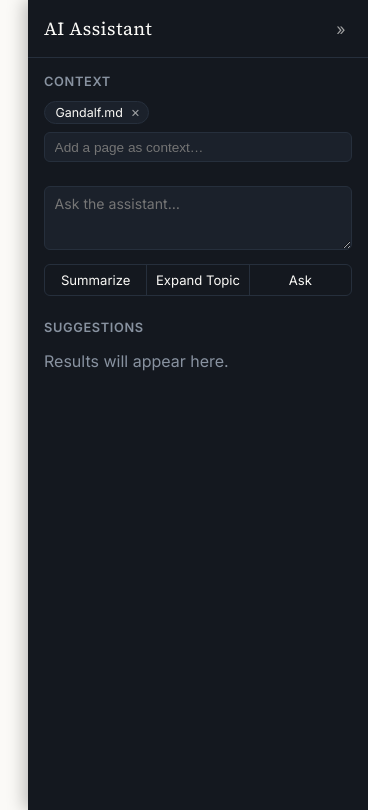
Test: AiAssistantPanel › Add to Page saves the appended content and notifies the parent
Check: the heading "Context" is shown, box [44, 74, 111, 89]
Step 1. Click the button "Summarize" → (96, 280), box [45, 265, 147, 295]
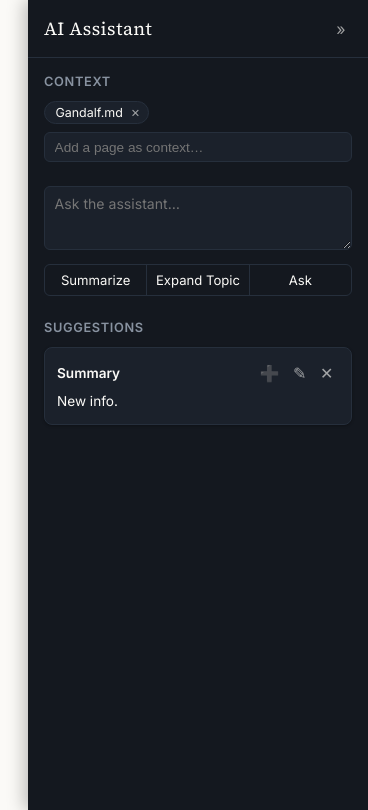
Check: the text "New info." is shown, box [57, 393, 118, 409]
Step 2. Click the button named "Add to Page" → (270, 372), box [254, 360, 285, 385]
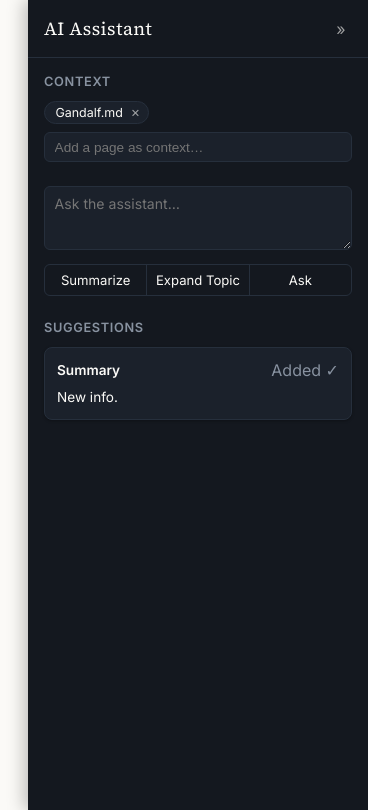
Check: the text "Added ✓" is shown, box [271, 360, 339, 380]
